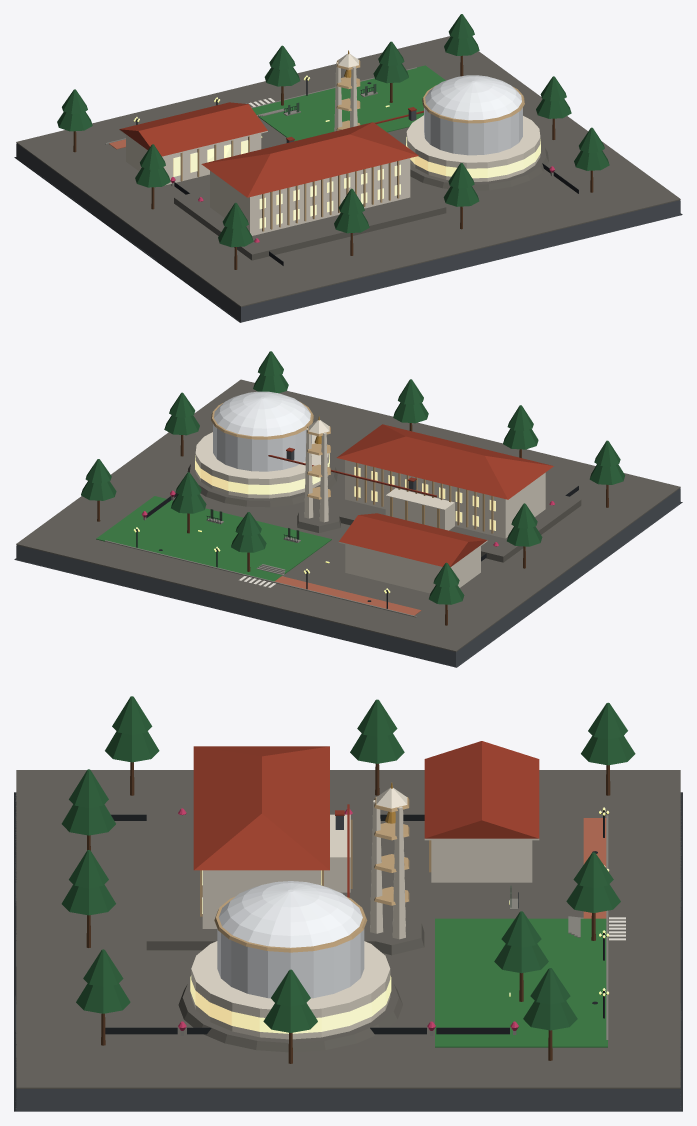
File: lm_25_dai_hoc_da_lat.glb
3 renders of one model, top to bottom at view 1: azimuth 30°, elevation 25°; view 2: azimuth 150°, elevation 25°; view 3: azimuth 270°, elevation 25°, orthographic. The views are drawn at different scales.
Visible parts, largest first — view 1: Foundation_Plinth_Trim, Modernist_Lecture_Hall_Walls, Foundation_Skirt, Campus_Pine_Grove_Canopies, MinhThanh_Lecture_Hall_Hip_Roof, Campus_Stone_Terraces, TRIGA_Nuclear_Reactor_Rotunda, Campus_Sloped_Lawns, Dalat_University_Library_Gable_Roof, Modernist_BriseSoleil_Louvers, Campus_Glowing_Windows, Campus_Pine_Trunks (+1 smaller); view 2: Foundation_Plinth_Trim, Modernist_Lecture_Hall_Walls, Foundation_Skirt, Campus_Pine_Grove_Canopies, Campus_Sloped_Lawns, MinhThanh_Lecture_Hall_Hip_Roof, TRIGA_Nuclear_Reactor_Rotunda, Campus_Stone_Terraces, Dalat_University_Library_Gable_Roof, Modernist_BriseSoleil_Louvers, Campus_Glowing_Windows, Phase2_Interlocking_Brick_Sidewalk (+3 smaller); view 3: Foundation_Plinth_Trim, Campus_Pine_Grove_Canopies, Modernist_Lecture_Hall_Walls, Campus_Sloped_Lawns, Foundation_Skirt, MinhThanh_Lecture_Hall_Hip_Roof, Campus_Stone_Terraces, TRIGA_Nuclear_Reactor_Rotunda, Dalat_University_Library_Gable_Roof, Modernist_BriseSoleil_Louvers, Campus_Glowing_Windows, Phase2_WroughtIron_Balconies_Railings_Manholes (+3 smaller).
Part boxes in pixels (x1,y1,x2,y2): Foundation_Plinth_Trim: [16, 36, 680, 307]; Modernist_Lecture_Hall_Walls: [126, 53, 540, 235]; Foundation_Skirt: [14, 143, 682, 322]; Campus_Pine_Grove_Canopies: [57, 14, 609, 247]; MinhThanh_Lecture_Hall_Hip_Roof: [201, 122, 418, 197]; Campus_Stone_Terraces: [174, 143, 548, 260]; TRIGA_Nuclear_Reactor_Rotunda: [424, 75, 522, 155]; Campus_Sloped_Lawns: [252, 65, 445, 141]; Dalat_University_Library_Gable_Roof: [119, 102, 267, 156]; Modernist_BriseSoleil_Louvers: [180, 60, 524, 231]; Campus_Glowing_Windows: [173, 137, 540, 228]; Campus_Pine_Trunks: [73, 55, 593, 269]; Foundation_Plinth_Trim: [16, 379, 680, 651]; Modernist_Lecture_Hall_Walls: [195, 420, 545, 593]; Foundation_Skirt: [14, 488, 682, 667]; Campus_Pine_Grove_Canopies: [81, 351, 625, 604]; Campus_Sloped_Lawns: [96, 496, 331, 581]; MinhThanh_Lecture_Hall_Hip_Roof: [336, 424, 553, 499]; TRIGA_Nuclear_Reactor_Rotunda: [213, 391, 311, 471]; Campus_Stone_Terraces: [187, 459, 581, 562]; Dalat_University_Library_Gable_Roof: [339, 513, 487, 566]; Modernist_BriseSoleil_Louvers: [211, 401, 493, 533]; Campus_Glowing_Windows: [195, 453, 495, 530]; Phase2_Interlocking_Brick_Sidewalk: [274, 576, 421, 615]; Foundation_Plinth_Trim: [16, 770, 680, 1088]; Campus_Pine_Grove_Canopies: [61, 696, 635, 1032]; Modernist_Lecture_Hall_Walls: [191, 787, 532, 1039]; Campus_Sloped_Lawns: [435, 918, 607, 1047]; Foundation_Skirt: [14, 792, 682, 1111]; MinhThanh_Lecture_Hall_Hip_Roof: [193, 746, 329, 870]; Campus_Stone_Terraces: [146, 801, 424, 1052]; TRIGA_Nuclear_Reactor_Rotunda: [217, 881, 364, 998]; Dalat_University_Library_Gable_Roof: [424, 741, 539, 838]; Modernist_BriseSoleil_Louvers: [200, 797, 431, 952]; Campus_Glowing_Windows: [190, 870, 391, 1033]; Phase2_WroughtIron_Balconies_Railings_Manholes: [105, 810, 607, 1034].
Size of the model in its own units: 105 by 27.5 by 92.77.
